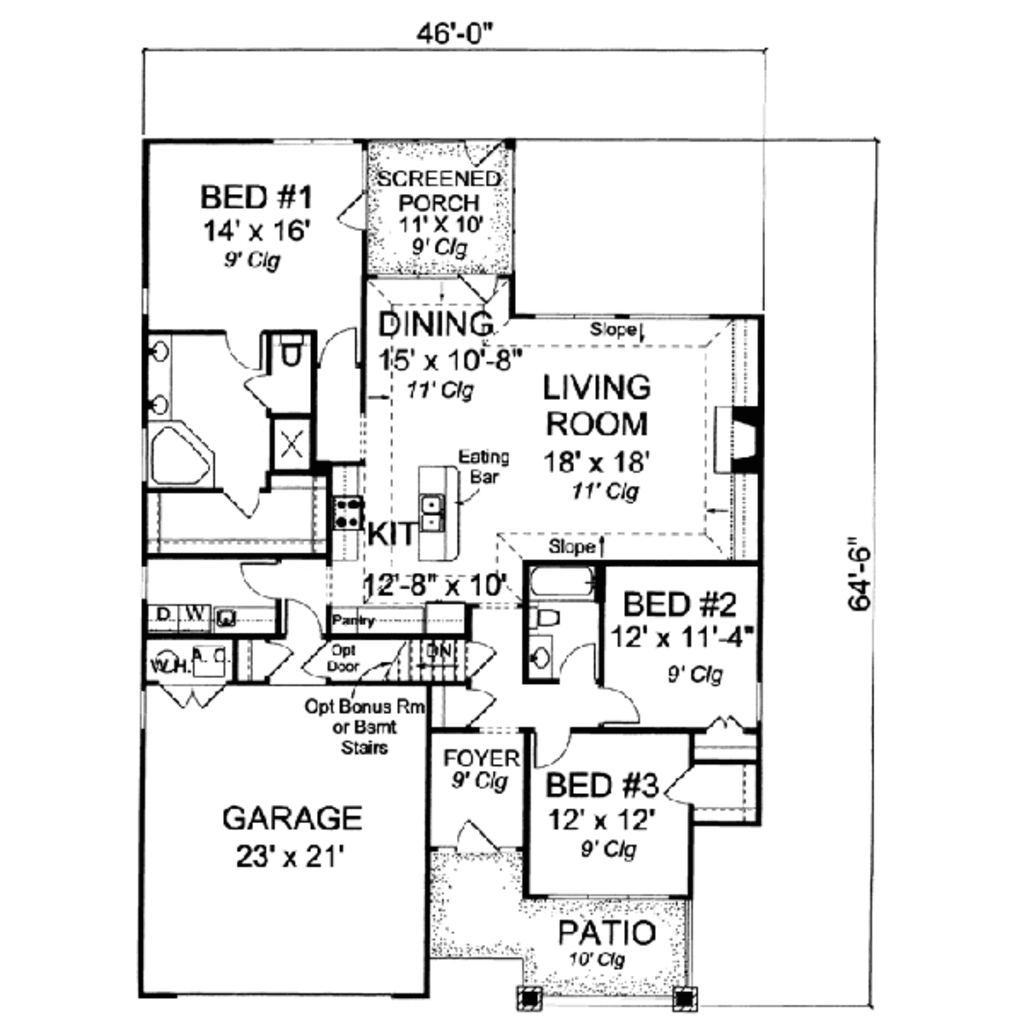door: (586, 676, 650, 732), (521, 722, 585, 775), (444, 260, 509, 307), (217, 324, 277, 370), (556, 643, 617, 684), (291, 637, 339, 689), (269, 597, 325, 641), (439, 818, 498, 859), (331, 189, 383, 234), (234, 560, 283, 607), (312, 322, 361, 367), (153, 680, 225, 710), (445, 686, 494, 730), (466, 132, 525, 168), (453, 635, 502, 676), (659, 760, 698, 810), (237, 370, 278, 416), (220, 483, 266, 524), (248, 640, 290, 684)
large_sink: (513, 599, 578, 634)
small_sink: (136, 329, 186, 419), (526, 634, 558, 687)
stairs: (336, 637, 455, 690)
tub: (528, 565, 604, 603)
twin_sink: (405, 486, 464, 540)
window: (269, 129, 359, 149)
